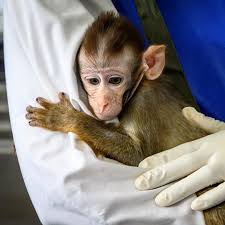monkey: (58, 13, 225, 218)
